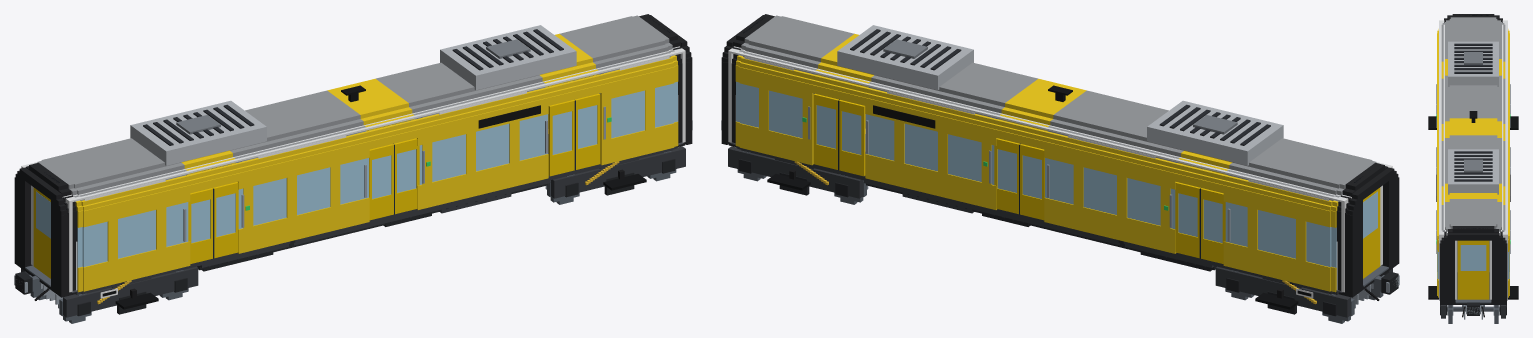
The model's file is berlin_ik_car.obj.
3 renders of one model, left to right at view 1: azimuth 30°, elevation 25°; view 2: azimuth 150°, elevation 25°; view 3: azimuth 270°, elevation 25°, orthographic. The views are drawn at different scales.
Visible parts, largest first — view 1: SHELL, SHELL_roof, SHELL_diaphragm, SHELL_ceiling, BOGEY_FRONT, BOGEY_REAR, EXTERNAL_DOOR_16_CG_DR3_TOGGLE_TL_-0.59_X, EXTERNAL_DOOR_4_CG_DR1_TOGGLE_TL_-0.59_X, EXTERNAL_DOOR_10_CG_DR2_TOGGLE_TL_-0.59_X, EXTERNAL_DOOR_5_CG_DR1_TOGGLE_TL_0.59_X, EXTERNAL_DOOR_17_CG_DR3_TOGGLE_TL_0.59_X, EXTERNAL_DOOR_11_CG_DR2_TOGGLE_TL_0.59_X (+7 smaller); view 2: SHELL, SHELL_roof, SHELL_diaphragm, SHELL_ceiling, BOGEY_FRONT, BOGEY_REAR, EXTERNAL_DOOR_19_CG_DL3_TOGGLE_TL_-0.59_X, EXTERNAL_DOOR_7_CG_DL1_TOGGLE_TL_-0.59_X, EXTERNAL_DOOR_13_CG_DL2_TOGGLE_TL_-0.59_X, EXTERNAL_DOOR_8_CG_DL1_TOGGLE_TL_0.59_X, EXTERNAL_DOOR_20_CG_DL3_TOGGLE_TL_0.59_X, EXTERNAL_DOOR_14_CG_DL2_TOGGLE_TL_0.59_X (+7 smaller); view 3: SHELL, SHELL_roof, SHELL_diaphragm, SHELL_ceiling, CONNECTING_DOOR_2_CG_CF_TOGGLE_TL_0.98_Z, BOGEY_FRONT, SHELL_end, BOGEY_FRONT_WHEEL_2, BOGEY_REAR, FRAME, SHELL_handle, SHELL_gangway (+1 smaller).
Part boxes in pixels (x1,y1,x2,y2): SHELL: [26, 14, 686, 295]; SHELL_roof: [130, 25, 576, 165]; SHELL_diaphragm: [14, 15, 692, 297]; SHELL_ceiling: [24, 47, 682, 201]; BOGEY_FRONT: [550, 146, 685, 198]; BOGEY_REAR: [21, 266, 198, 317]; EXTERNAL_DOOR_16_CG_DR3_TOGGLE_TL_-0.59_X: [548, 100, 575, 176]; EXTERNAL_DOOR_4_CG_DR1_TOGGLE_TL_-0.59_X: [188, 188, 214, 263]; EXTERNAL_DOOR_10_CG_DR2_TOGGLE_TL_-0.59_X: [369, 143, 394, 220]; EXTERNAL_DOOR_5_CG_DR1_TOGGLE_TL_0.59_X: [213, 182, 238, 258]; EXTERNAL_DOOR_17_CG_DR3_TOGGLE_TL_0.59_X: [574, 93, 600, 169]; EXTERNAL_DOOR_11_CG_DR2_TOGGLE_TL_0.59_X: [394, 138, 419, 214]; SHELL: [727, 14, 1387, 295]; SHELL_roof: [837, 25, 1283, 165]; SHELL_diaphragm: [721, 15, 1399, 297]; SHELL_ceiling: [730, 47, 1389, 201]; BOGEY_FRONT: [728, 146, 863, 198]; BOGEY_REAR: [1215, 266, 1392, 317]; EXTERNAL_DOOR_19_CG_DL3_TOGGLE_TL_-0.59_X: [838, 99, 865, 176]; EXTERNAL_DOOR_7_CG_DL1_TOGGLE_TL_-0.59_X: [1199, 188, 1225, 263]; EXTERNAL_DOOR_13_CG_DL2_TOGGLE_TL_-0.59_X: [1019, 143, 1044, 220]; EXTERNAL_DOOR_8_CG_DL1_TOGGLE_TL_0.59_X: [1175, 182, 1200, 258]; EXTERNAL_DOOR_20_CG_DL3_TOGGLE_TL_0.59_X: [813, 93, 838, 169]; EXTERNAL_DOOR_14_CG_DL2_TOGGLE_TL_0.59_X: [994, 138, 1019, 214]; SHELL: [1437, 14, 1509, 300]; SHELL_roof: [1448, 41, 1498, 194]; SHELL_diaphragm: [1440, 15, 1506, 304]; SHELL_ceiling: [1439, 21, 1507, 233]; CONNECTING_DOOR_2_CG_CF_TOGGLE_TL_0.98_Z: [1457, 240, 1489, 299]; BOGEY_FRONT: [1428, 286, 1518, 318]; SHELL_end: [1439, 14, 1507, 299]; BOGEY_FRONT_WHEEL_2: [1447, 305, 1499, 323]; BOGEY_REAR: [1428, 116, 1518, 129]; FRAME: [1462, 302, 1484, 317]; SHELL_handle: [1436, 84, 1510, 253]; SHELL_gangway: [1455, 298, 1491, 302].
Bounding box in the file's own units: 17.24 × 3.76 × 2.84.
1 material, 1 textured.
